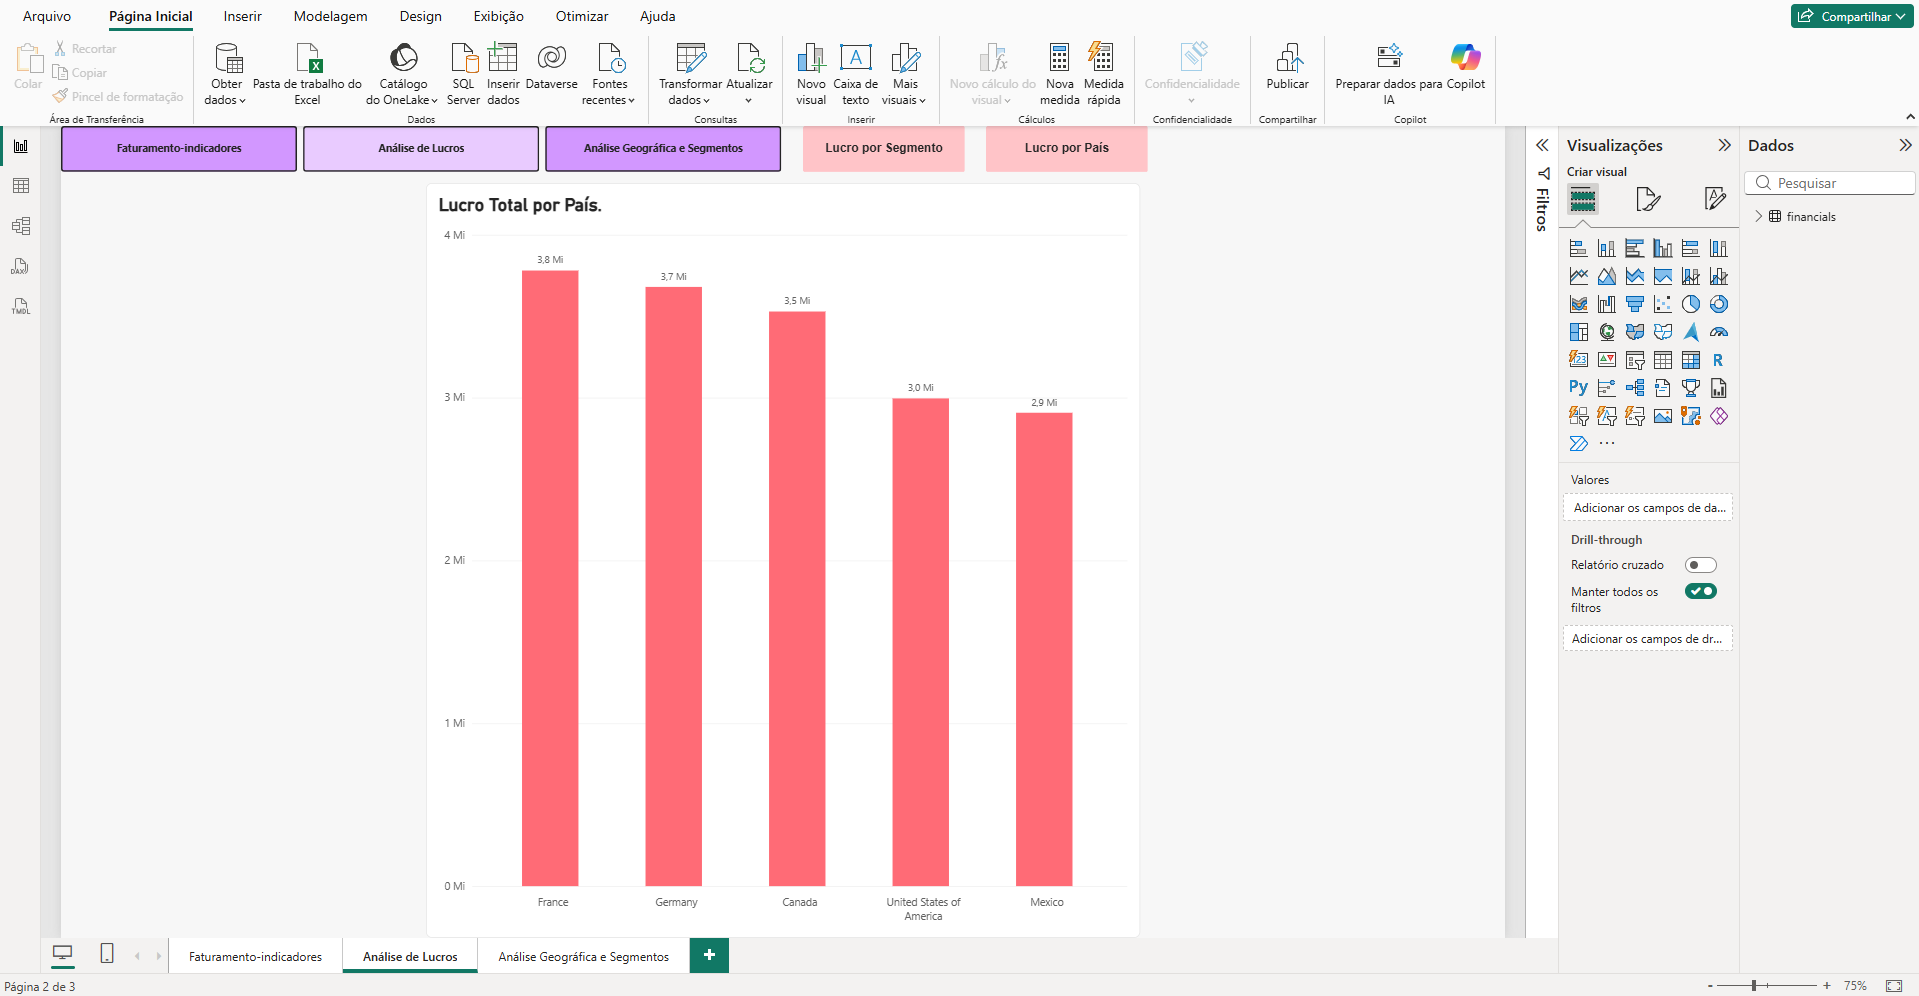

The page's visual inventory and layout, read from the dashboard file:
{"tool":"powerbi","page":{"name":"Análise de Lucros","canvas":[1920,1080],"ordinal":1},"visuals":[{"type":"clusteredColumnChart","title":"Lucro Total por País.","fields":{"Category":["financials.Country"],"Y":["Sum(financials.Profit)"]},"box":[485.9,75.2,949.7,1004.2],"z":1000},{"type":"pageNavigator","box":[0,0,960.3,61.2],"z":1001},{"type":"actionButton","title":"Lucro por Segmento","box":[986.9,0,215.5,61.2],"z":1005},{"type":"actionButton","title":"Lucro por Segmento","box":[1230.8,0,215.5,61.2],"z":1006}]}

Visuals, with their boxes on the page's 1920x1080 design canvas (x1, y1, x2, y2). These are canvas units, not pixel positions in the 1919x996 screenshot, which may show the page scaled, cropped or inside an application window:
"Lucro Total por País." clusteredColumnChart: box(486, 75, 1436, 1079)
pageNavigator: box(0, 0, 960, 61)
"Lucro por Segmento" actionButton: box(987, 0, 1202, 61)
"Lucro por Segmento" actionButton: box(1231, 0, 1446, 61)
